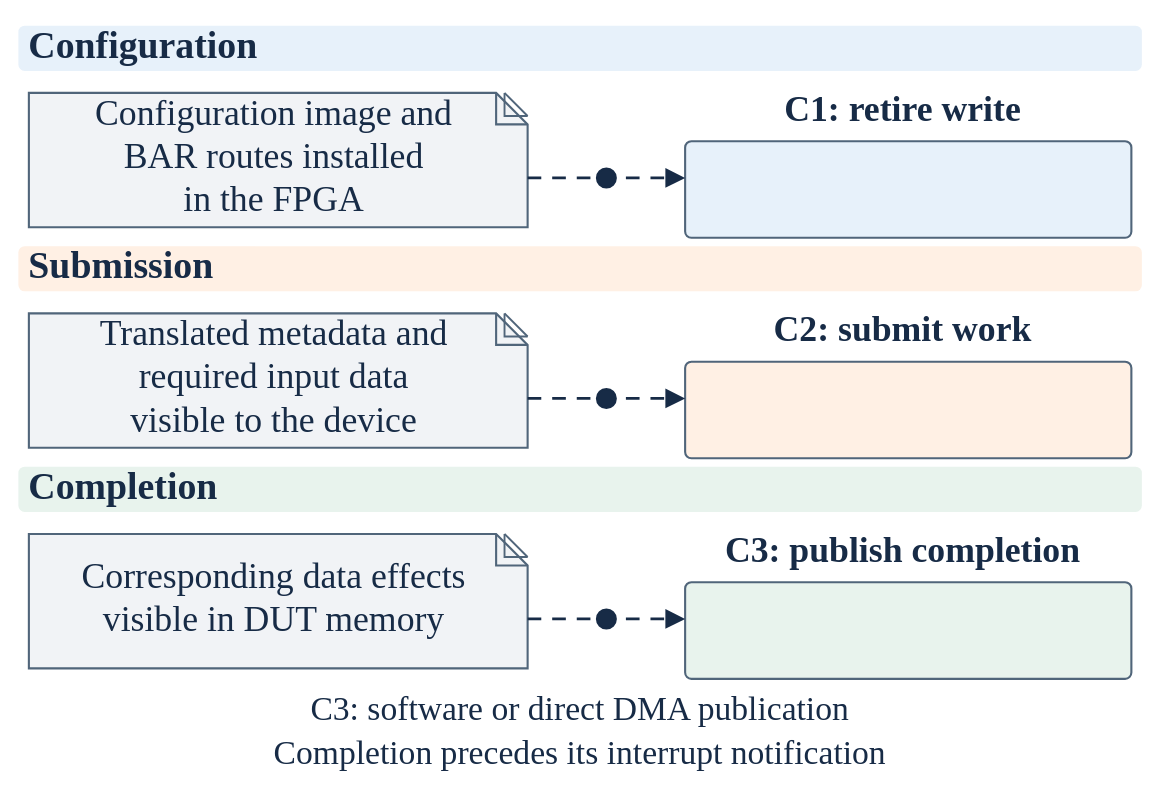
Image size: 1170x796. Some labels were removed from this diagram. The box of each missing label's shape, as (x1, y1, x2, y2) in pixels:
Driver may consume the completed result: (684, 581, 1132, 679)
DUT may use the updated mapping: (684, 140, 1132, 238)
Physical device may execute: (684, 360, 1132, 459)
